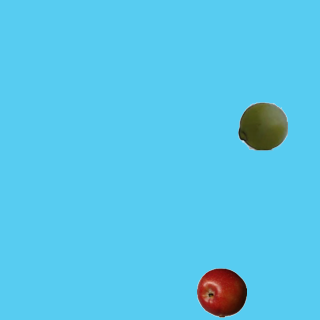Apple Braeburn: (196, 267, 246, 317)
Grape White 4: (237, 100, 287, 150)
